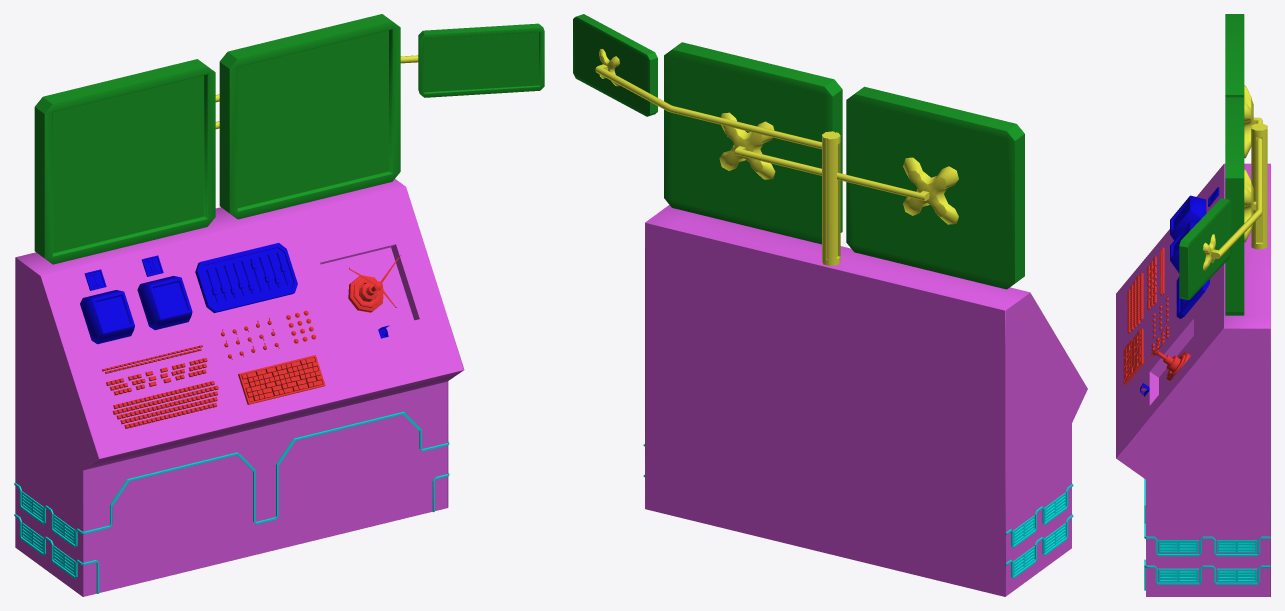
The model's file is morse code panel +materials.fbx.
3 views of the same model, side by side, from view 1: azimuth 30°, elevation 25°; view 2: azimuth 150°, elevation 25°; view 3: azimuth 270°, elevation 25° (orthographic). The views are drawn at different scales.
Visible parts, largest first — view 1: base, screens, screenPanels, keyboards, ventsOutlined; view 2: base, screens, screenHolders, ventsOutlined; view 3: base, screens, screenHolders, ventsOutlined, keyboards, screenPanels.
Boxes of the visible parts, x1=… form: base: x1=15, y1=179, x2=464, y2=596; screens: x1=34, y1=14, x2=544, y2=264; screenPanels: x1=80, y1=243, x2=389, y2=344; keyboards: x1=102, y1=255, x2=400, y2=428; ventsOutlined: x1=14, y1=411, x2=449, y2=593; base: x1=645, y1=205, x2=1087, y2=596; screens: x1=573, y1=14, x2=1024, y2=289; screenHolders: x1=595, y1=49, x2=958, y2=265; ventsOutlined: x1=643, y1=444, x2=1073, y2=578; base: x1=1116, y1=163, x2=1270, y2=596; screens: x1=1179, y1=14, x2=1244, y2=315; screenHolders: x1=1203, y1=85, x2=1267, y2=270; ventsOutlined: x1=1144, y1=479, x2=1270, y2=590; keyboards: x1=1123, y1=247, x2=1190, y2=385; screenPanels: x1=1140, y1=187, x2=1219, y2=396.
Size of the model in its own units: 331 by 300 by 99.18.
